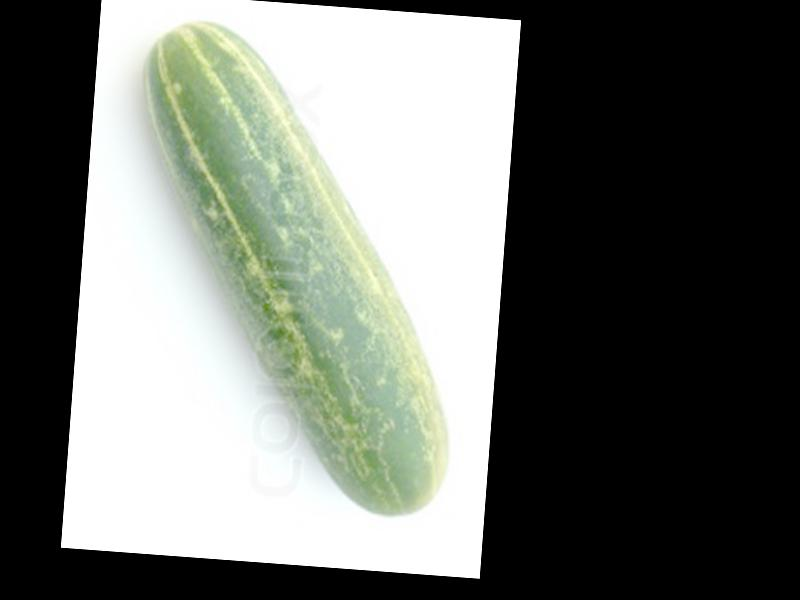Cucumber: (114, 14, 482, 519)
